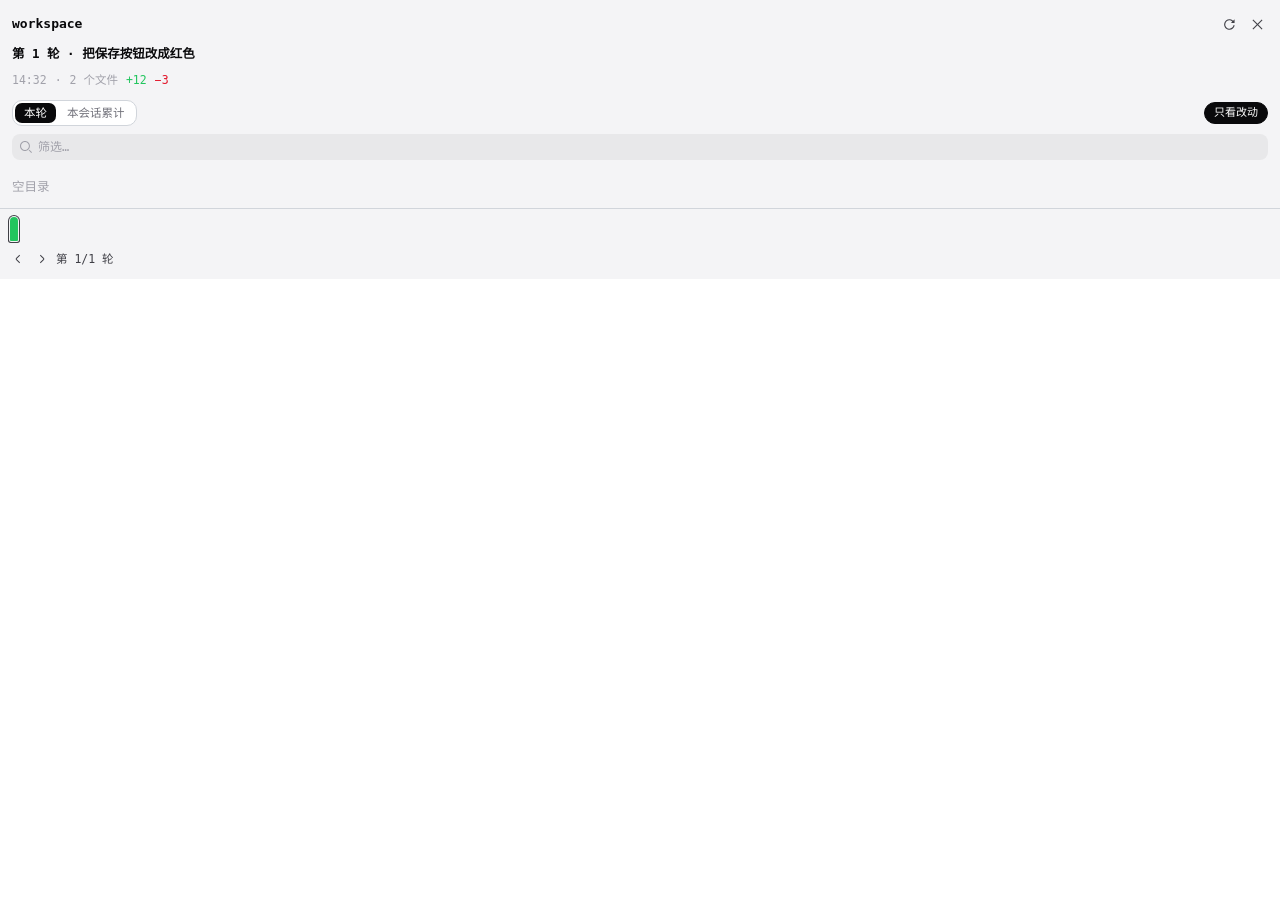
it: ProjectPanel rounds › closes the round list when the counter is pressed again
Click the button with test id "growth-round-picker": [85, 259] box top-left (56, 247), bottom-right (1272, 271)
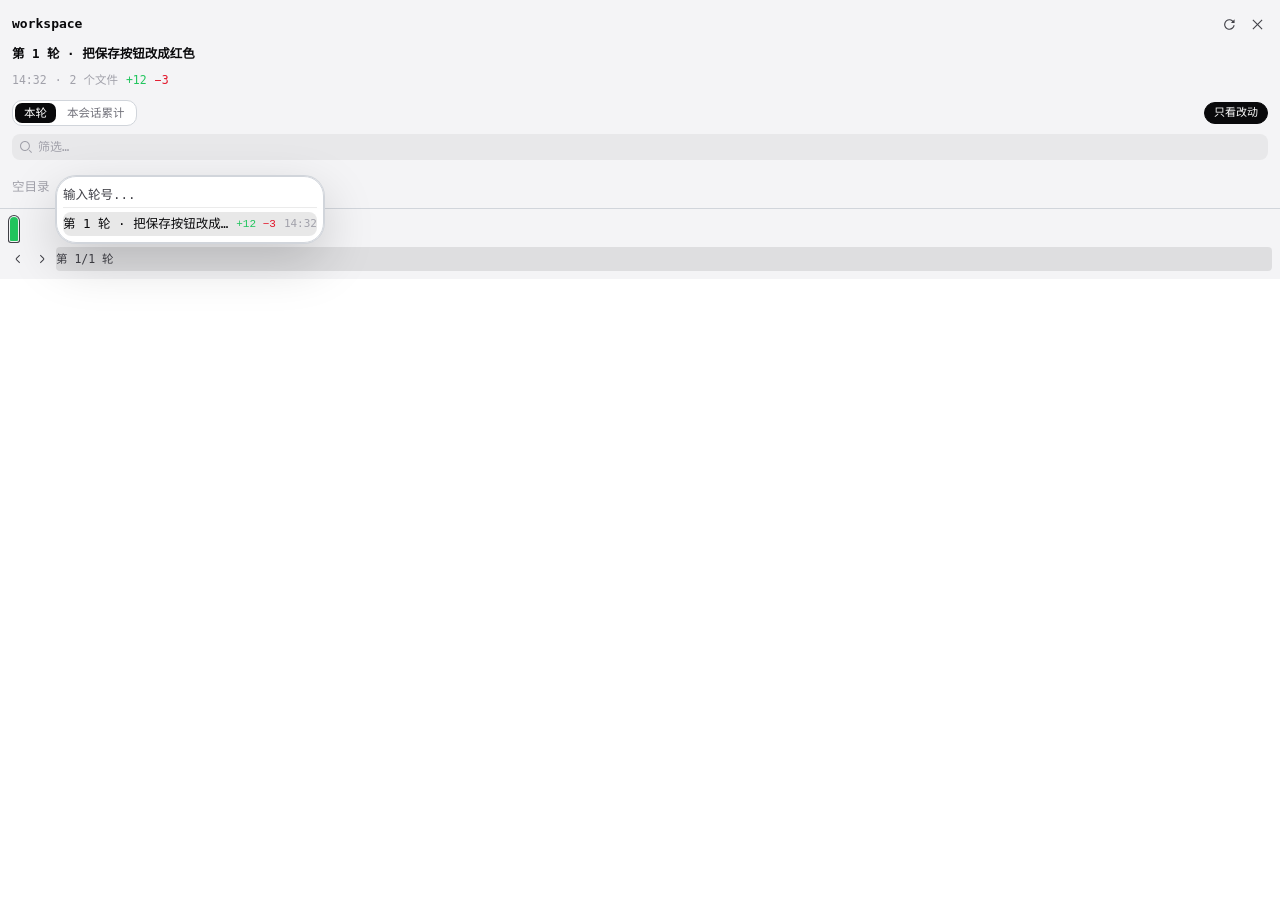
Expected: the list with test id "growth-round-list" is shown, top-left (56, 176), bottom-right (324, 243)
Click the button with test id "growth-round-picker": [85, 259] box top-left (56, 247), bottom-right (1272, 271)
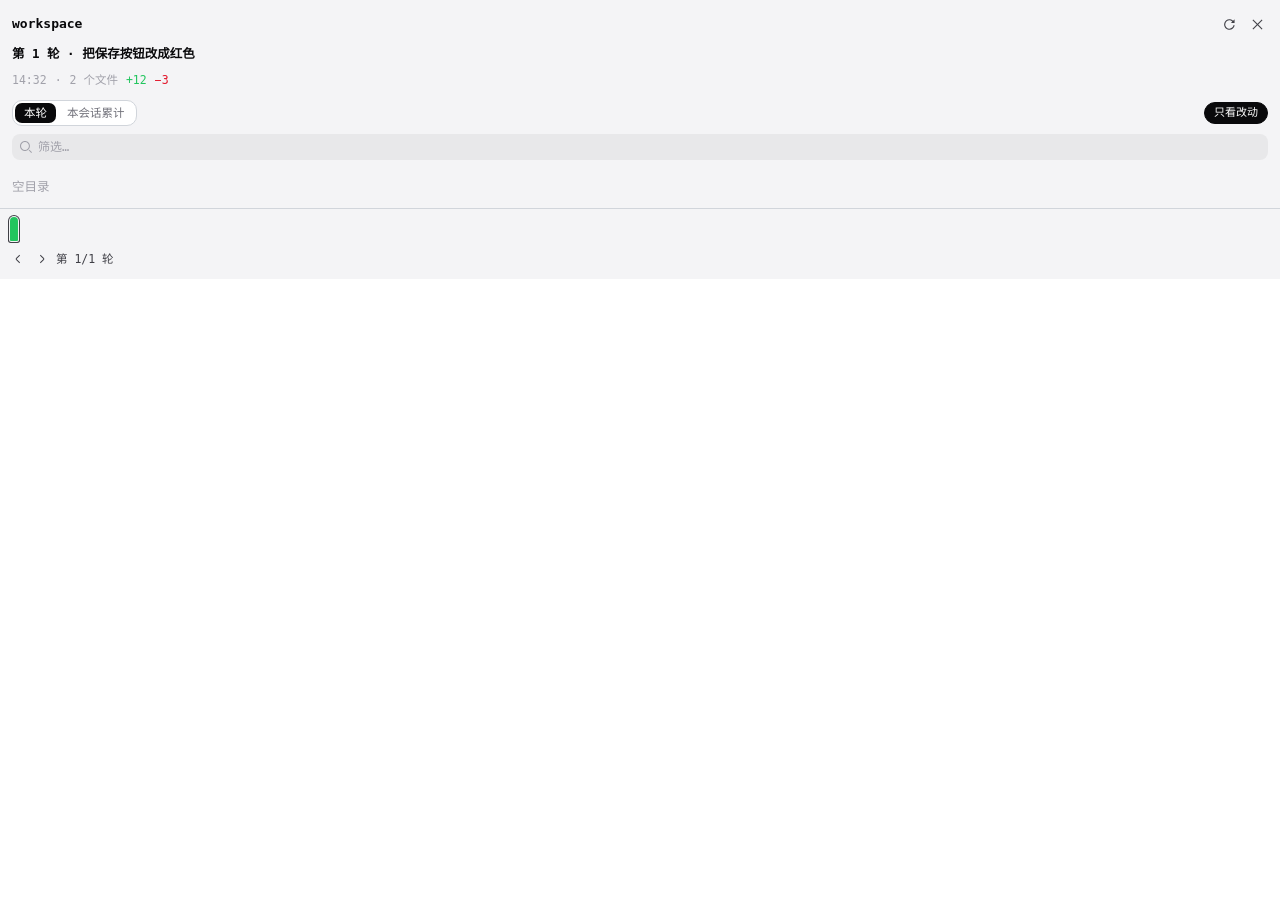
Expected: the list with test id "growth-round-list" is gone
Click the button with test id "growth-round-picker": [85, 259] box top-left (56, 247), bottom-right (1272, 271)
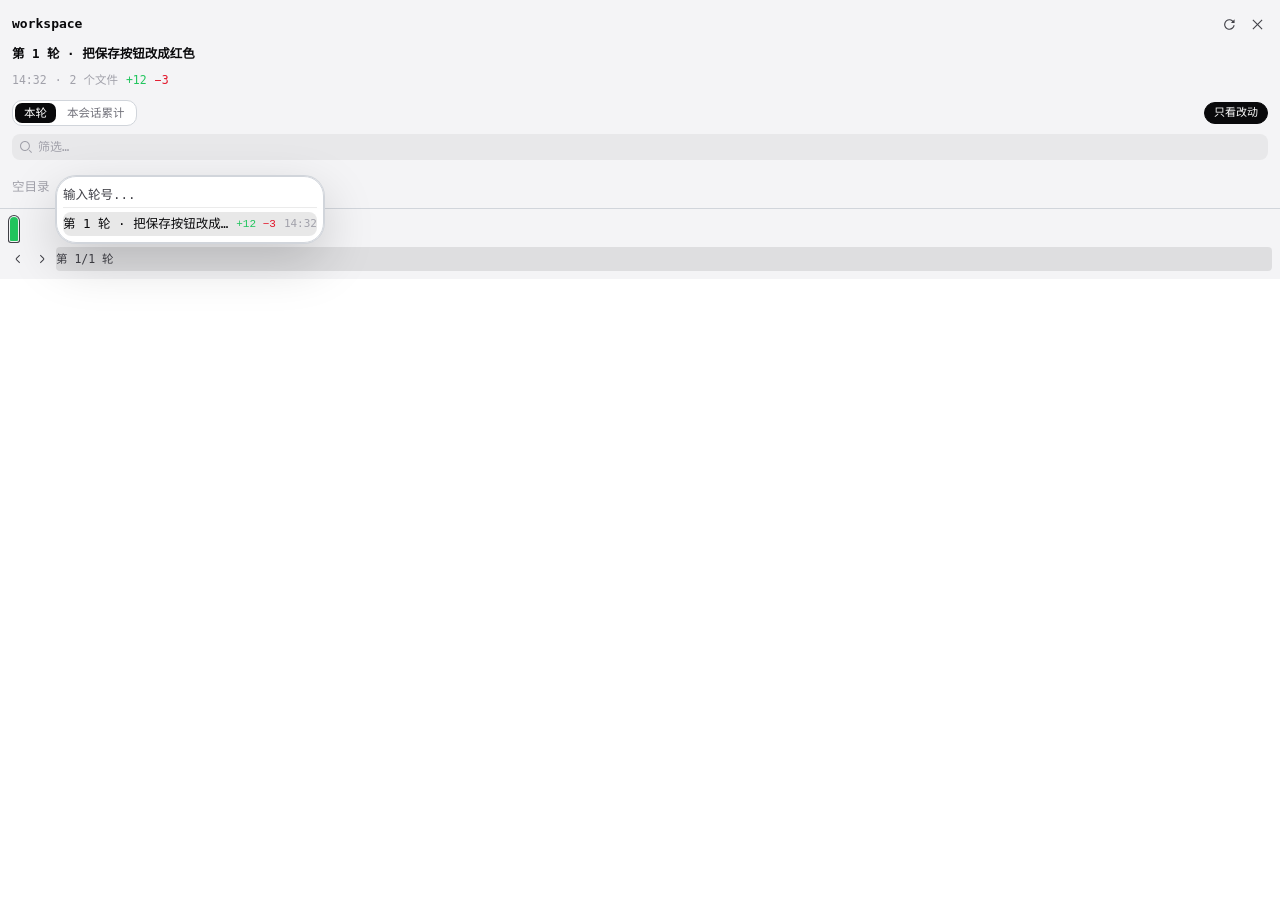
Press the mouse on the element that starts with "workspace": [640, 450] box top-left (0, 0), bottom-right (1279, 899)
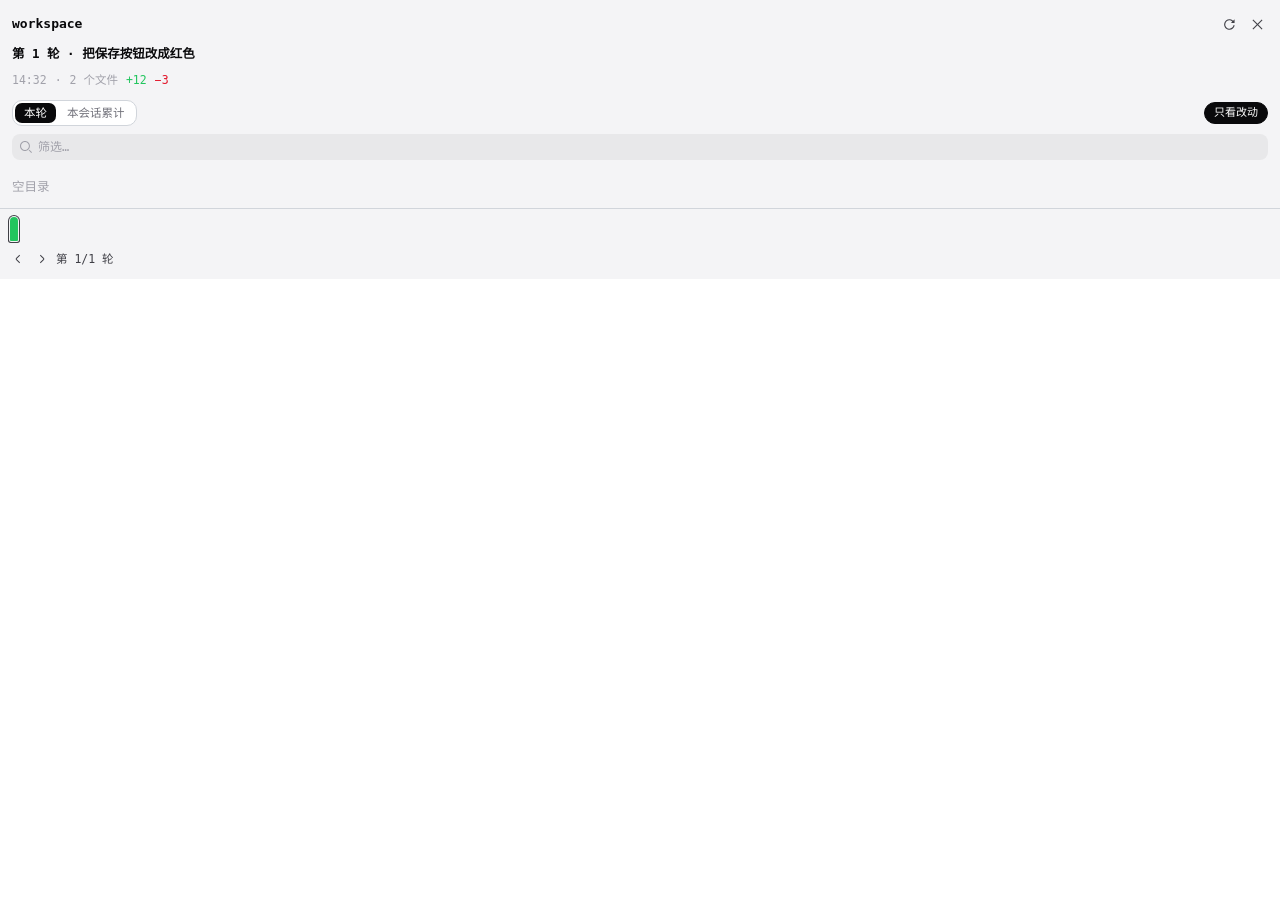
Expected: the list with test id "growth-round-list" is gone
